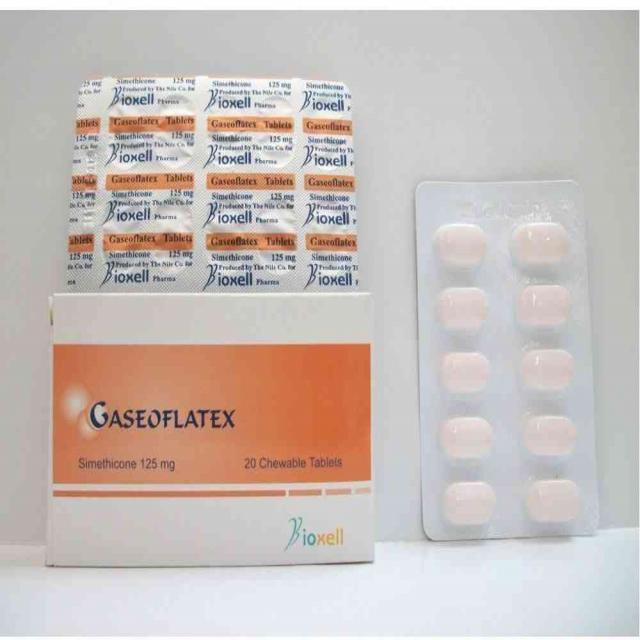drug-name: (83, 401, 237, 432)
